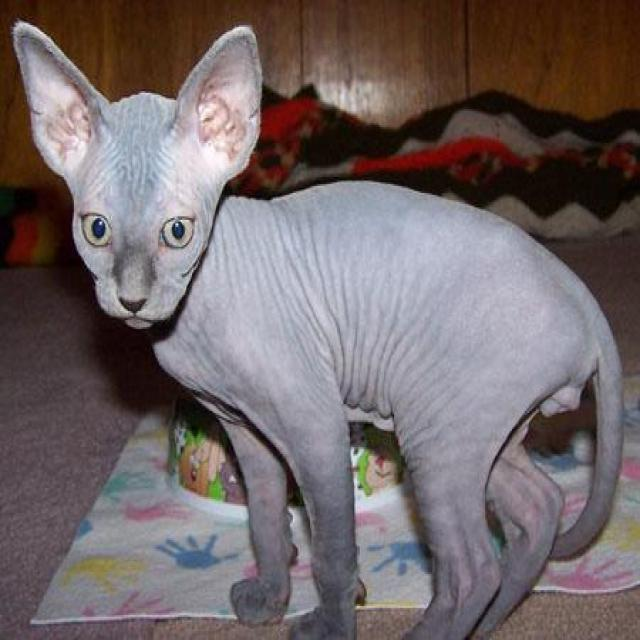Sphynx: (13, 14, 270, 339)
